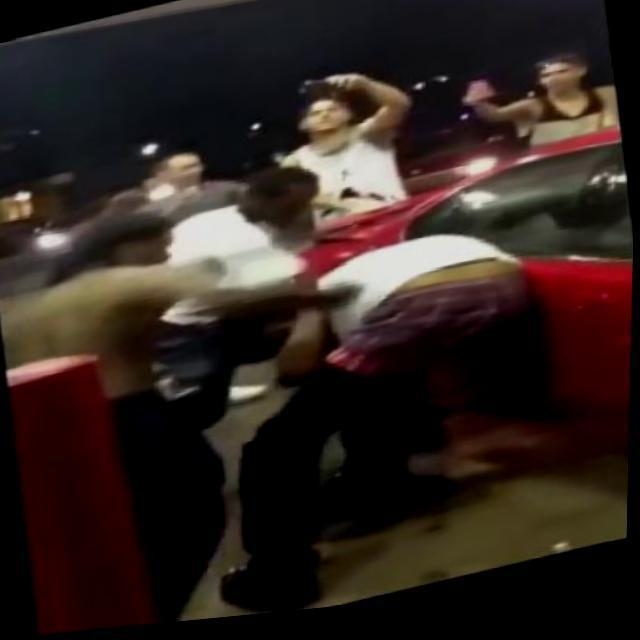fight: (167, 135, 560, 622)
